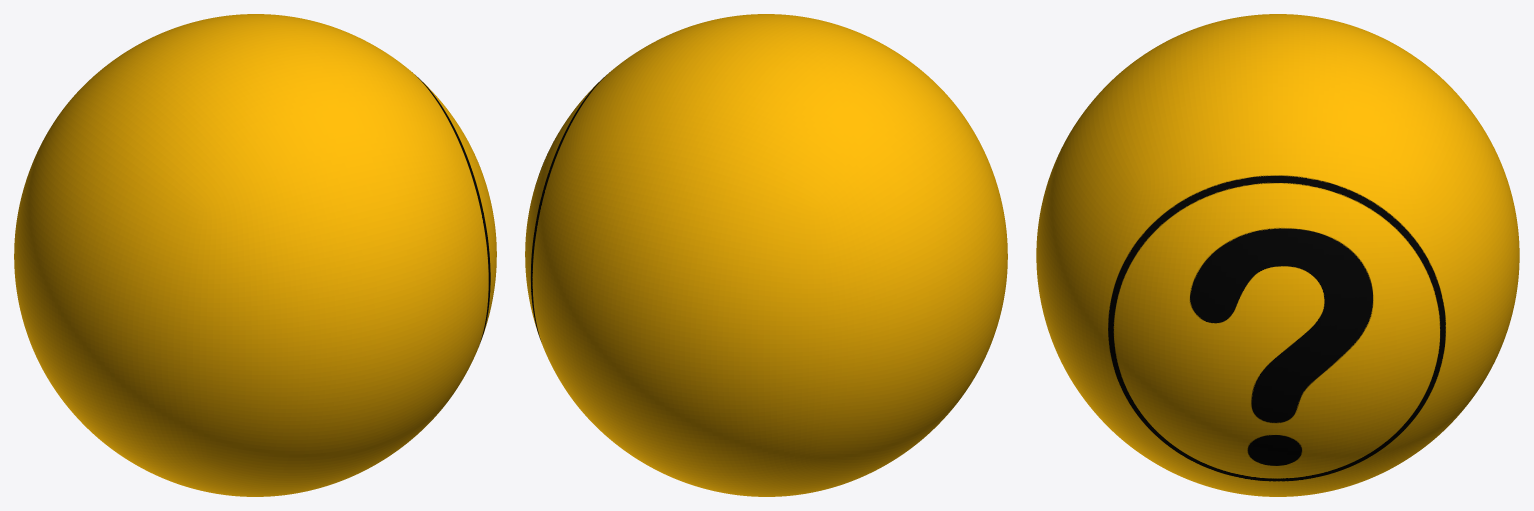
File: yellow_？.fbx
3 renders of one model, left to right at view 1: azimuth 30°, elevation 25°; view 2: azimuth 150°, elevation 25°; view 3: azimuth 270°, elevation 25°, orthographic.
Parts seen in each view (by area): view 1: Roundcube; view 2: Roundcube; view 3: Roundcube.
Boxes of the visible parts, left/top/right/bottom form: Roundcube: left=14, top=14, right=496, bottom=496; Roundcube: left=525, top=14, right=1007, bottom=496; Roundcube: left=1036, top=14, right=1519, bottom=496.
Size of the model in its own units: 479 by 479 by 479.
